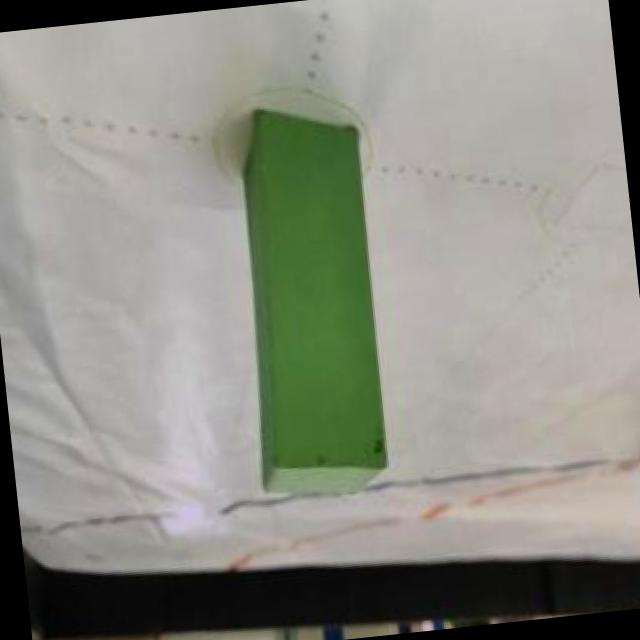greenbox: (220, 93, 397, 507)
